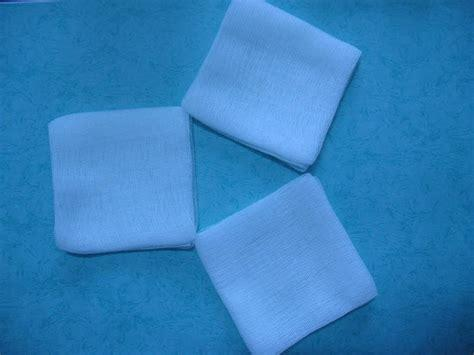cotton: (189, 174, 379, 355), (183, 0, 359, 170), (47, 106, 198, 252)
